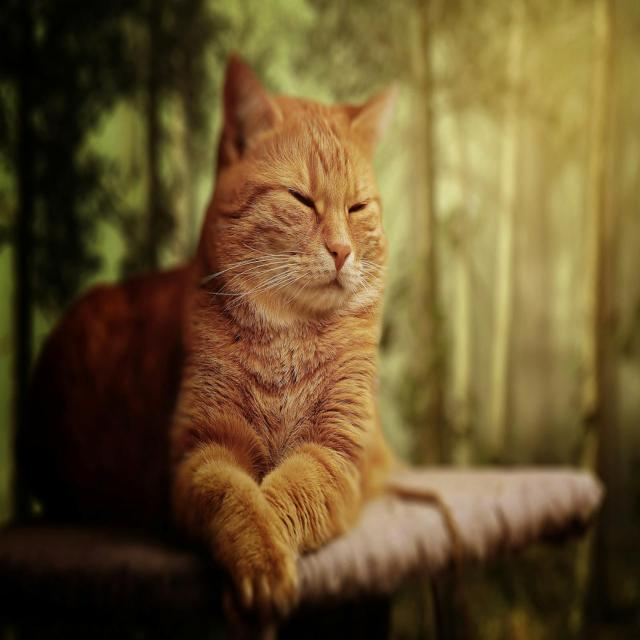Cat: (13, 48, 464, 622)
